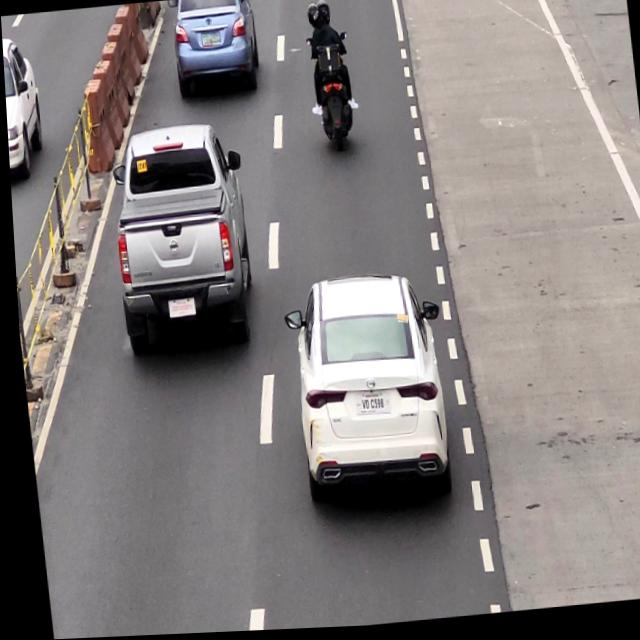Car: (283, 273, 447, 509), (106, 124, 255, 357), (169, 0, 260, 102)
License-Plate: (347, 389, 389, 420), (162, 298, 196, 321), (199, 29, 222, 51)
Motorcycle: (300, 0, 360, 166)
